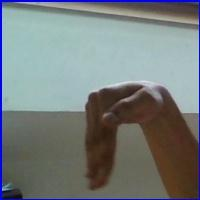del: (80, 75, 181, 190)
